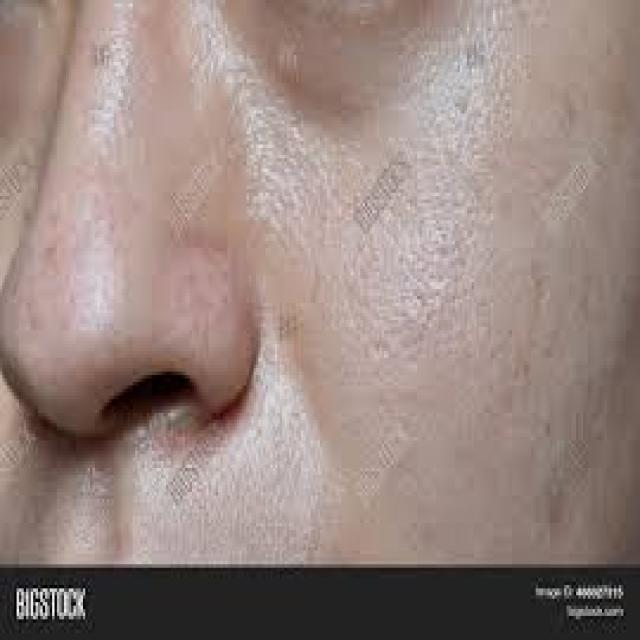Oily-Skin: (29, 50, 601, 640)
